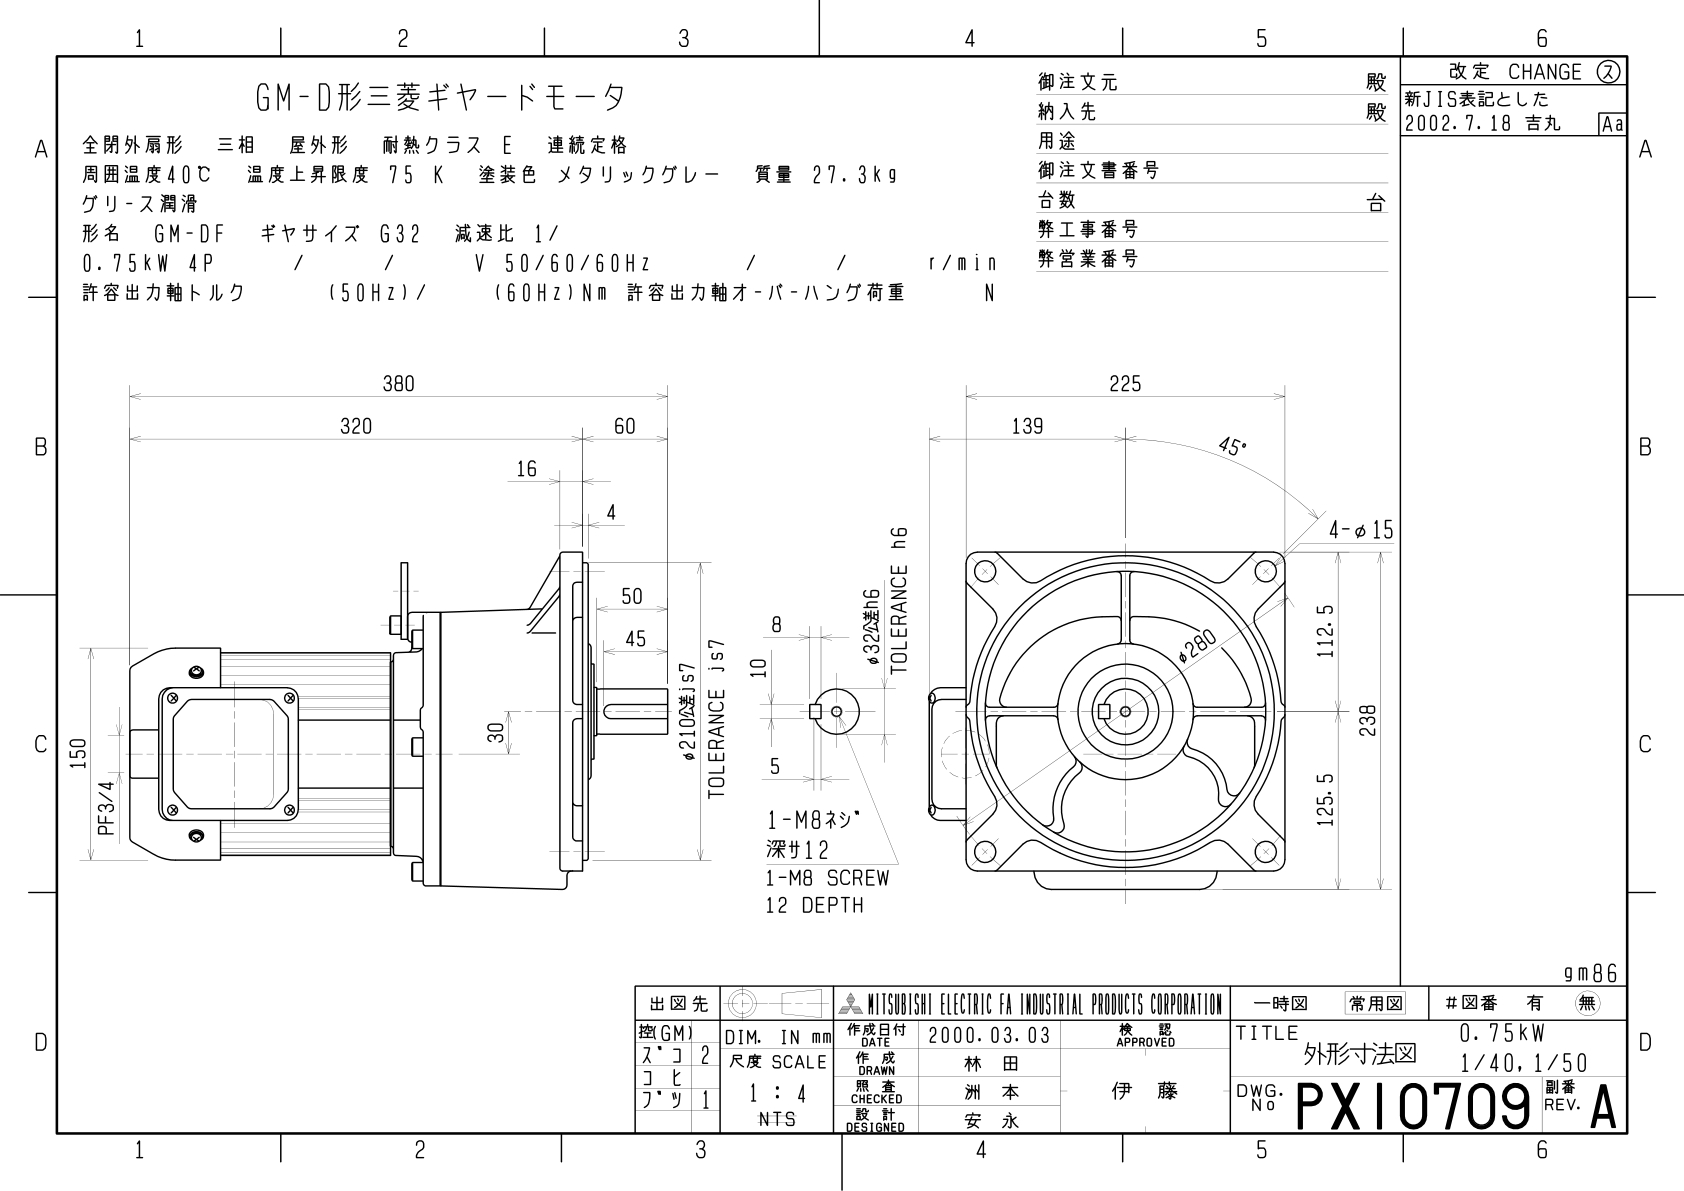GM_D_屋外＿三相_フランジ: (15, 9, 1684, 1191)
